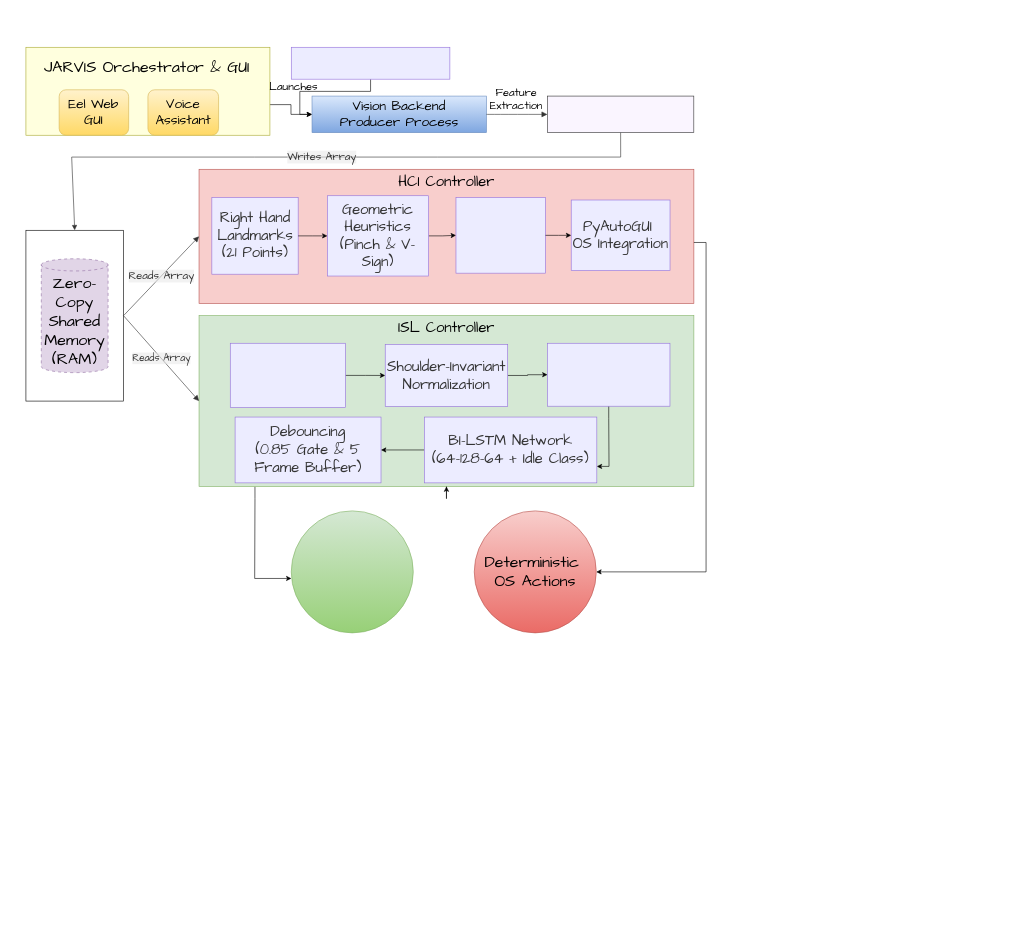
The diagram is 1021 pixels wide and 936 high, and some of its shapes have lost their labels. The box of each missing label's shape, as (x1, y1, x2, y2) in pixels:
30-Frame Temporal Window (deque): (547, 343, 670, 406)
MediaPipe Holistic Single-Pass: (547, 95, 694, 133)
One Euro Filter & Sigmoid Controller: (455, 197, 546, 273)
Semantic Translation & TTS: (291, 510, 413, 633)
Upper-Body Spatial Vector: (230, 343, 345, 408)
Webcam Video Feed (30fps): (291, 47, 450, 79)
